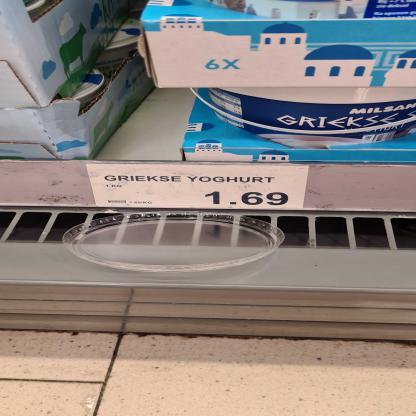prtg: (86, 165, 311, 210)
